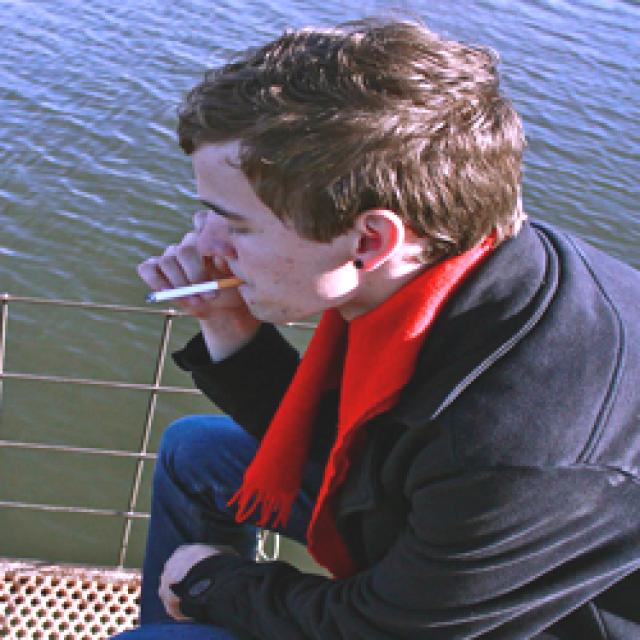Smooking: (135, 272, 256, 309)
